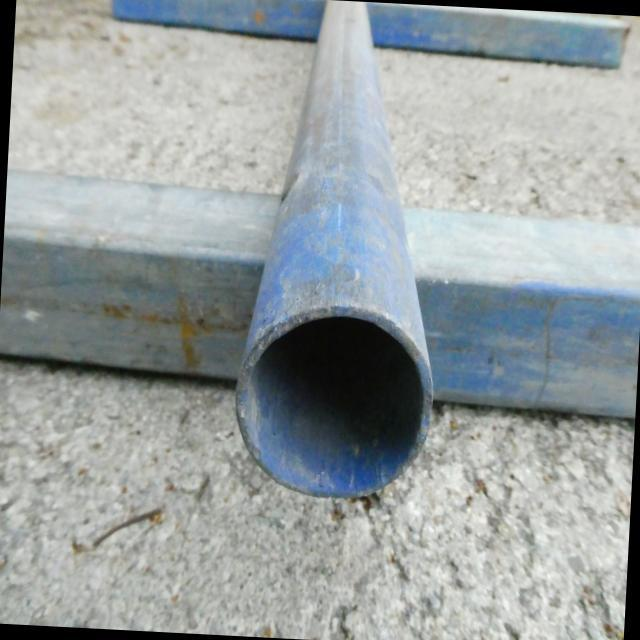pipe: (235, 307, 433, 502)
